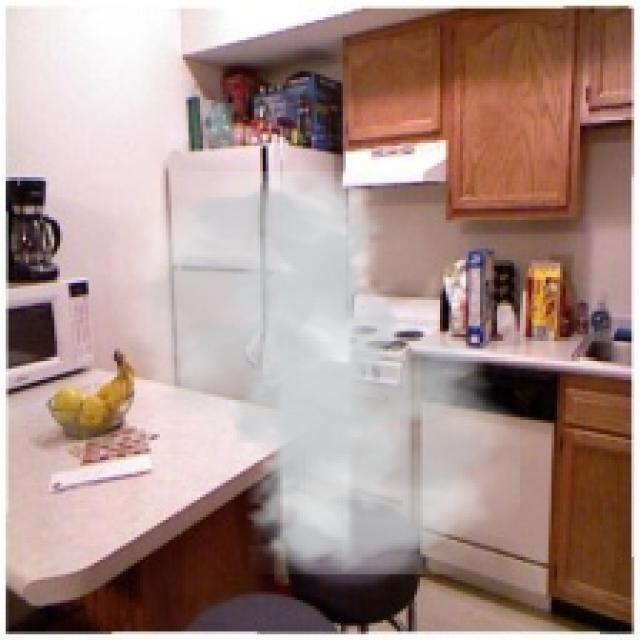smoke: (111, 172, 520, 574)
